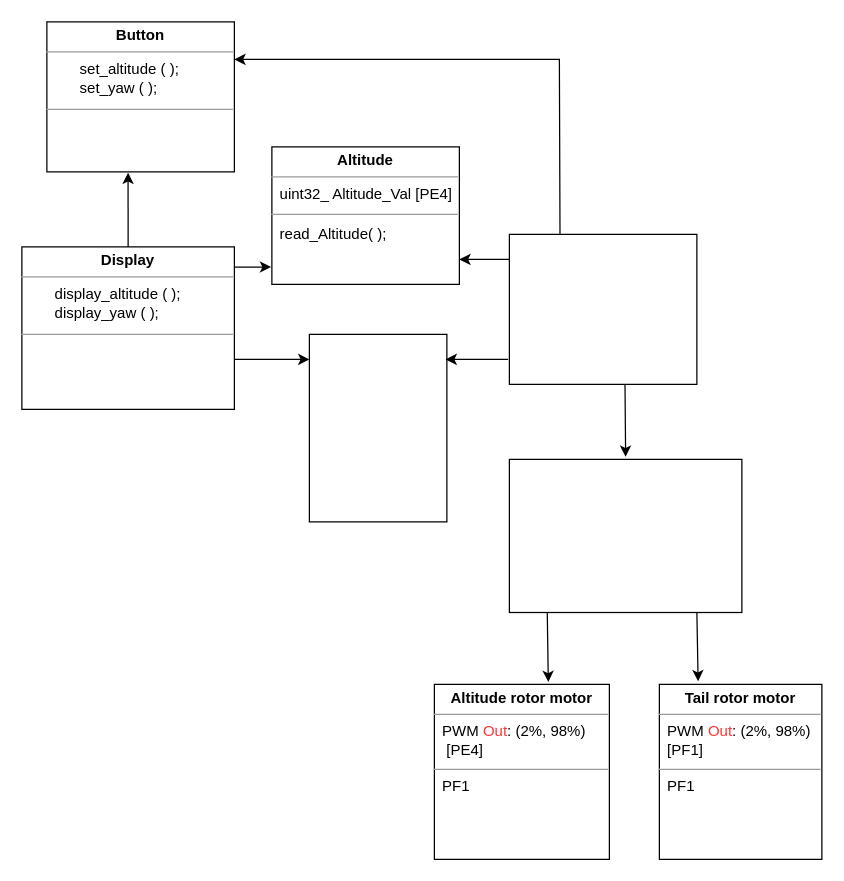
This 844x881 diagram has some shape labels left out. The centre of each missing label's shape, as x and y in pixels:
"Control System PID control ( );" belongs at pixel 602 308.
"PWM PWM_output ( ); set_duty ( ); Generate PWM signal to control Altitude & Tail" belongs at pixel 625 535.
"Yaw Phase A [PB0] Phase B [PB1] Yaw Ref [PC5] Tail direction () Tail angle ( )" belongs at pixel 377 427.
